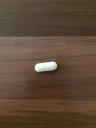Aferin: (33, 61, 58, 73)
